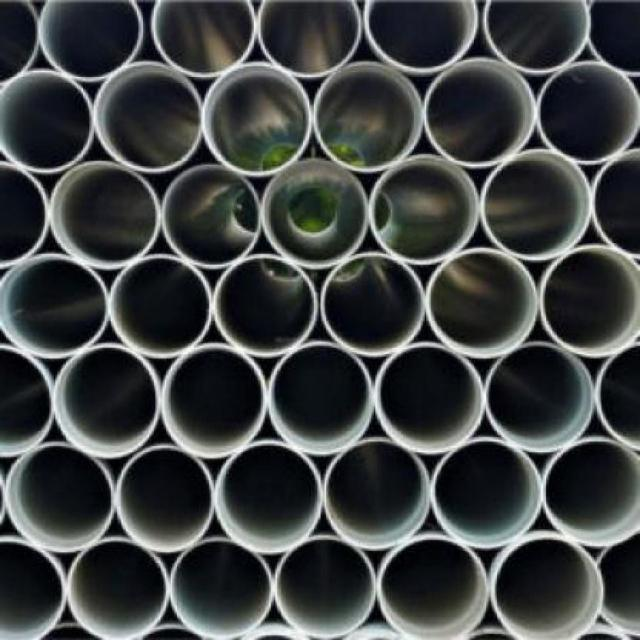pipe: (202, 63, 315, 175), (424, 58, 537, 169), (51, 345, 161, 459), (426, 248, 538, 359), (482, 150, 593, 261), (375, 344, 485, 455), (369, 155, 480, 265), (314, 61, 424, 171), (216, 443, 324, 555), (49, 161, 160, 269), (94, 62, 202, 173), (162, 344, 267, 458), (485, 344, 593, 454), (433, 440, 543, 548), (5, 443, 113, 553), (261, 158, 368, 269), (492, 535, 606, 639), (325, 441, 432, 551), (269, 343, 374, 455), (538, 243, 638, 359), (0, 254, 109, 360), (378, 535, 489, 639), (273, 535, 378, 639), (214, 255, 318, 358), (320, 254, 425, 356), (109, 256, 214, 358), (538, 60, 640, 164), (169, 538, 274, 638), (117, 447, 216, 553), (162, 164, 262, 268), (545, 440, 639, 550), (67, 538, 170, 638), (0, 69, 94, 174), (37, 0, 145, 83), (256, 0, 363, 78), (363, 0, 478, 72), (151, 0, 258, 77), (483, 1, 591, 74), (0, 539, 66, 638), (0, 345, 54, 457), (591, 147, 639, 261), (0, 164, 49, 269), (592, 531, 640, 637), (597, 345, 640, 455), (584, 0, 639, 78), (0, 0, 42, 88)
